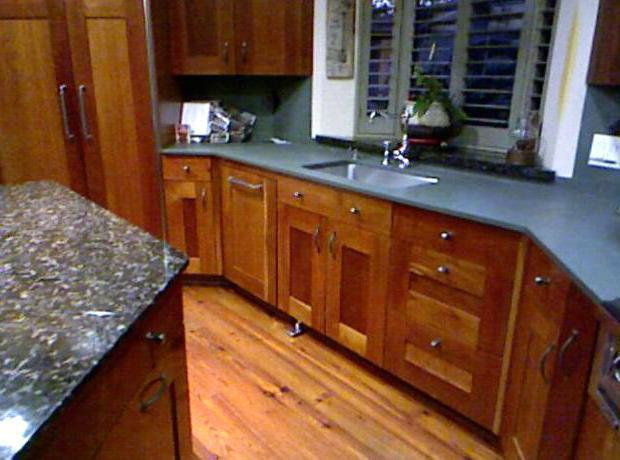Armario: (4, 3, 149, 284)
Lavaplatos: (295, 99, 447, 207)
